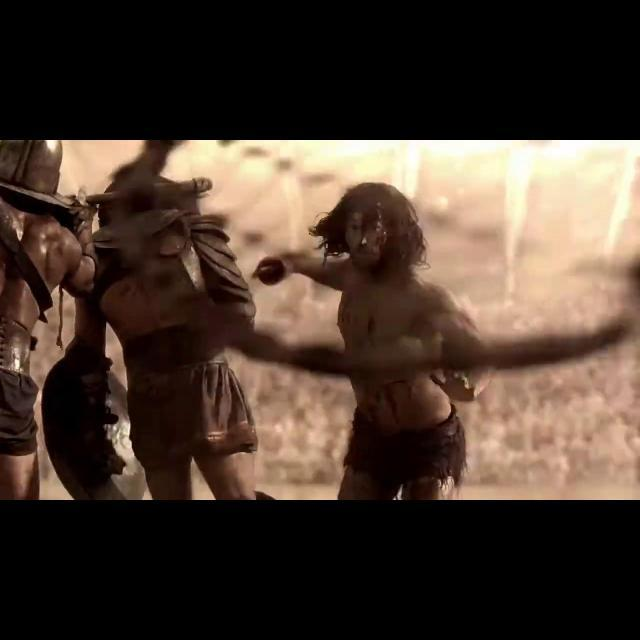blood: (346, 202, 388, 271)
